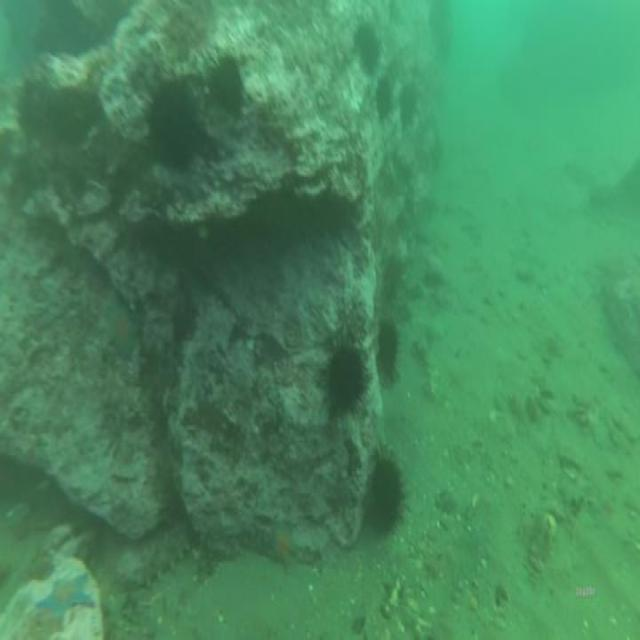echinus: (143, 70, 204, 178), (319, 328, 369, 426), (364, 438, 408, 534), (199, 42, 245, 121), (377, 320, 403, 382), (356, 17, 378, 74), (399, 77, 418, 128), (374, 71, 394, 115)
holothurian: (127, 526, 191, 586)
starfish: (37, 569, 96, 627), (266, 522, 300, 574)
